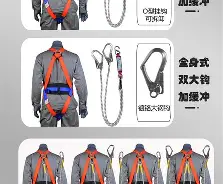safety belt: (38, 47, 80, 119), (77, 148, 108, 183), (174, 149, 204, 183), (126, 149, 154, 183), (32, 149, 55, 183)
